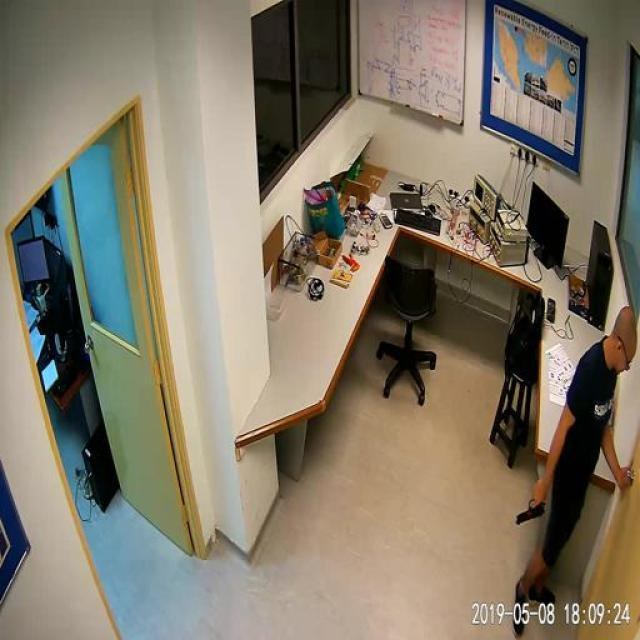Gun: (513, 480, 547, 541)
